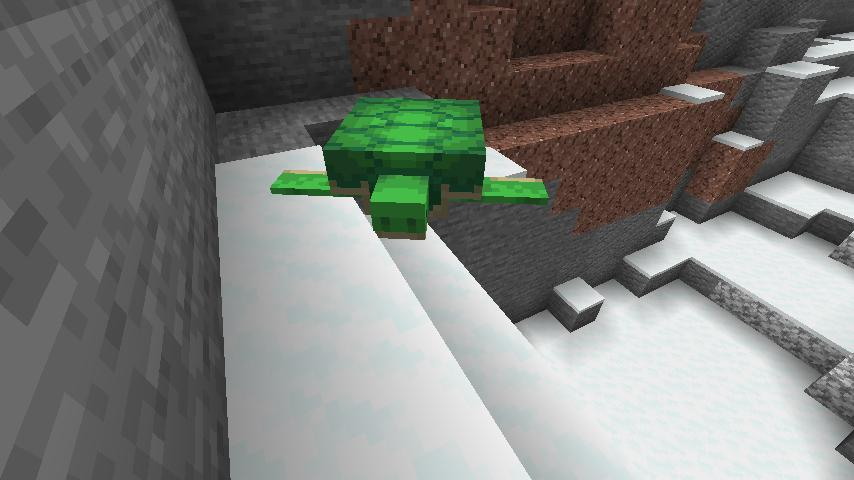turtle: (263, 94, 553, 243)
